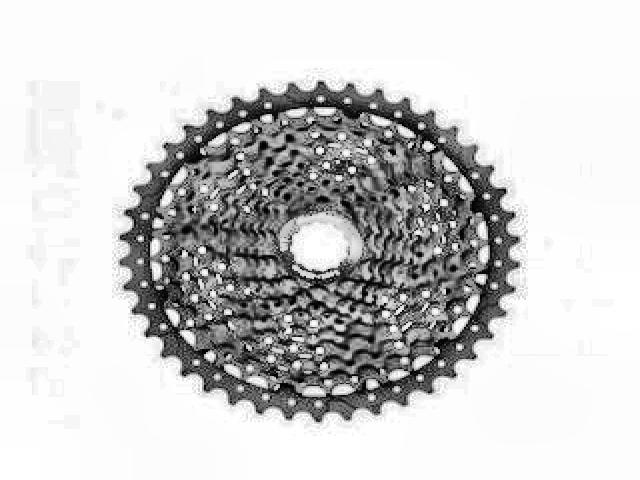cassette: (115, 78, 521, 422)
